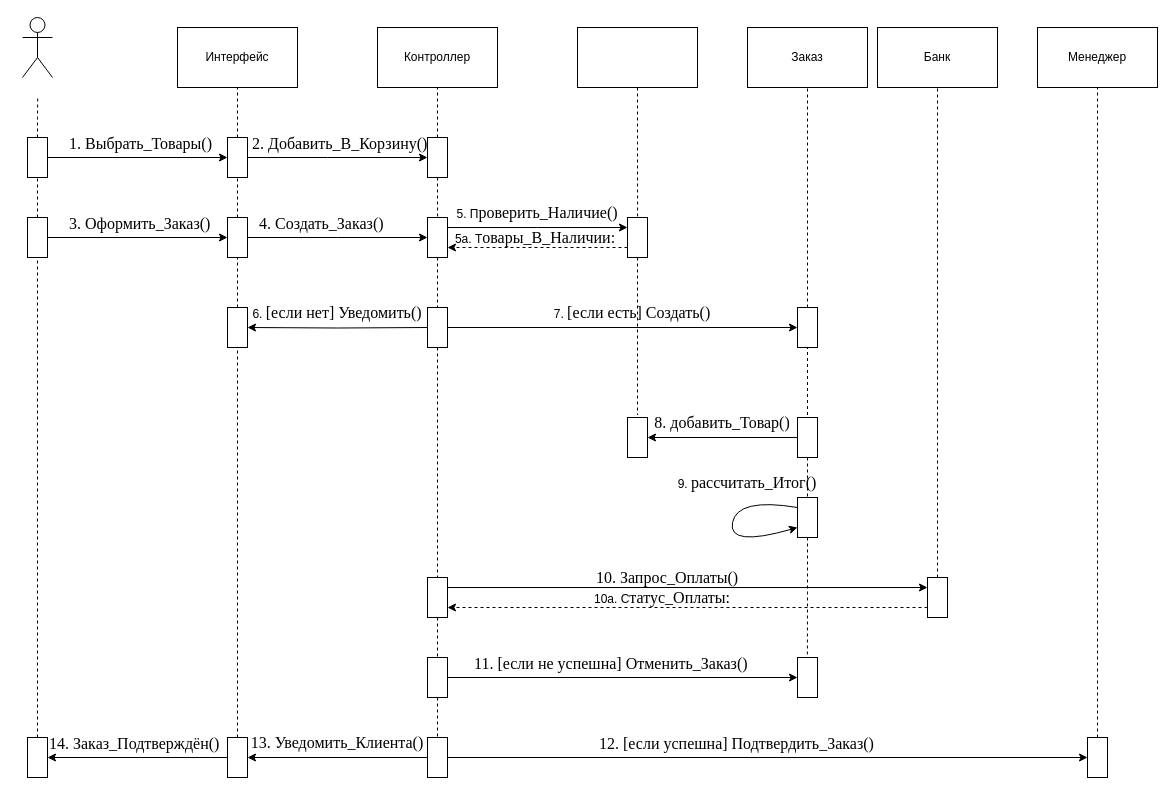
Image size: 1175x795. Some labels were removed from this diagram. The centre of each missing label's shape, as x and y in pixels:
"Клиент" goes at [37,47].
"Корзина" goes at [637,57].
